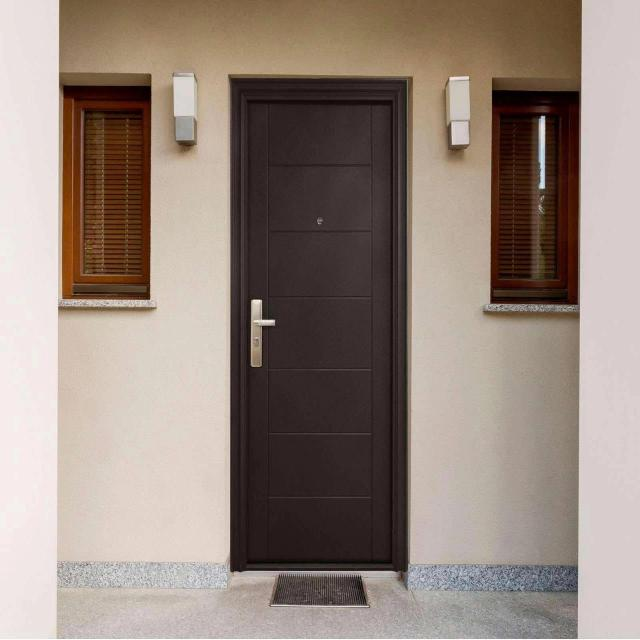door: (232, 76, 406, 572)
